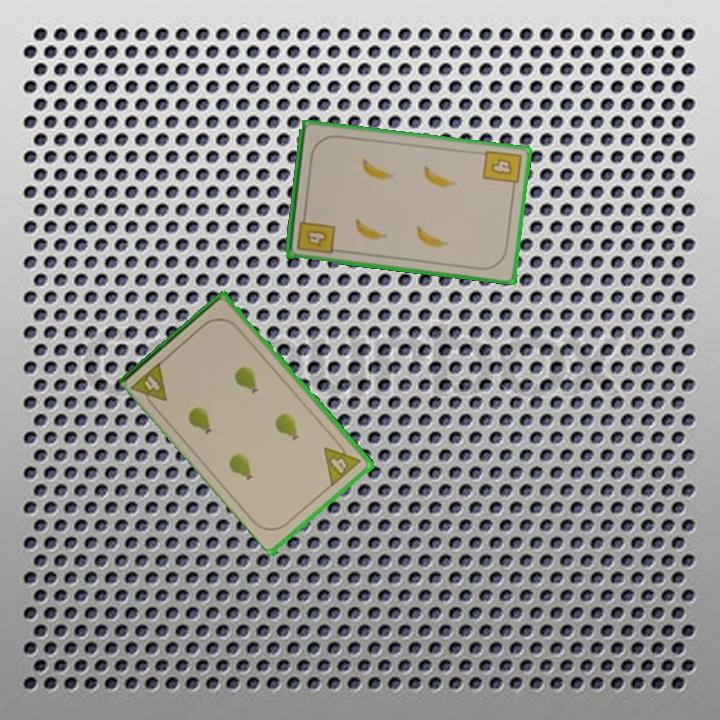4b: (479, 146, 524, 193), (293, 210, 337, 256)
4p: (128, 358, 171, 413), (321, 436, 365, 488)
